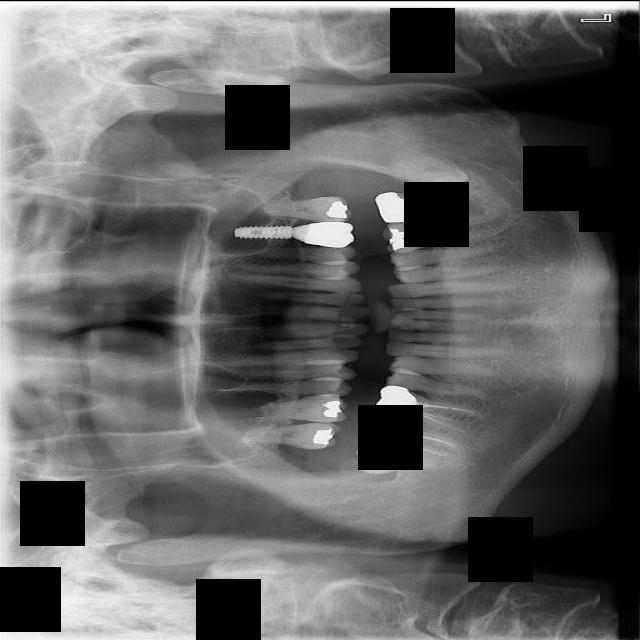52: (371, 379, 421, 428), (289, 217, 356, 249), (288, 419, 342, 450), (302, 193, 352, 225), (361, 414, 404, 451), (375, 190, 424, 222), (381, 218, 424, 254), (298, 393, 348, 422)
73: (582, 44, 598, 52)
BioHorizons Implant: (261, 195, 352, 222)
Biomet 3i Implant: (399, 151, 470, 191)
Blue Sky Bio Implant: (374, 182, 478, 226)
Caries: (239, 418, 342, 456)
Implant: (359, 413, 462, 460)
Keystone Dental Implant: (354, 443, 435, 475)
